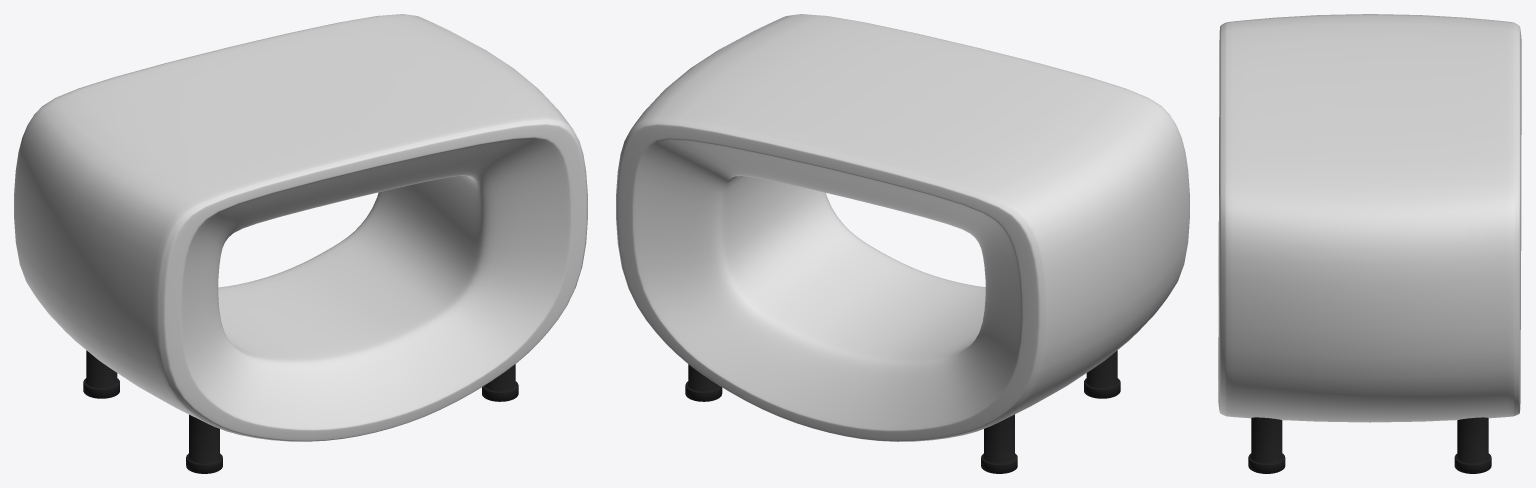
3 renders of one model, left to right at view 1: azimuth 30°, elevation 25°; view 2: azimuth 150°, elevation 25°; view 3: azimuth 270°, elevation 25°, orthographic.
Parts seen in each view (by area): view 1: Table, Table_Legs; view 2: Table, Table_Legs; view 3: Table, Table_Legs.
Boxes of the visible parts, x1,y1,x2,y2 form: Table: (14, 14, 587, 441); Table_Legs: (83, 350, 518, 473); Table: (616, 14, 1189, 441); Table_Legs: (685, 350, 1120, 473); Table: (1218, 14, 1521, 422); Table_Legs: (1248, 417, 1491, 473).
Bounding box in the file's own units: 207 × 124 × 116.
Materials: 2 (2 with a texture image).
